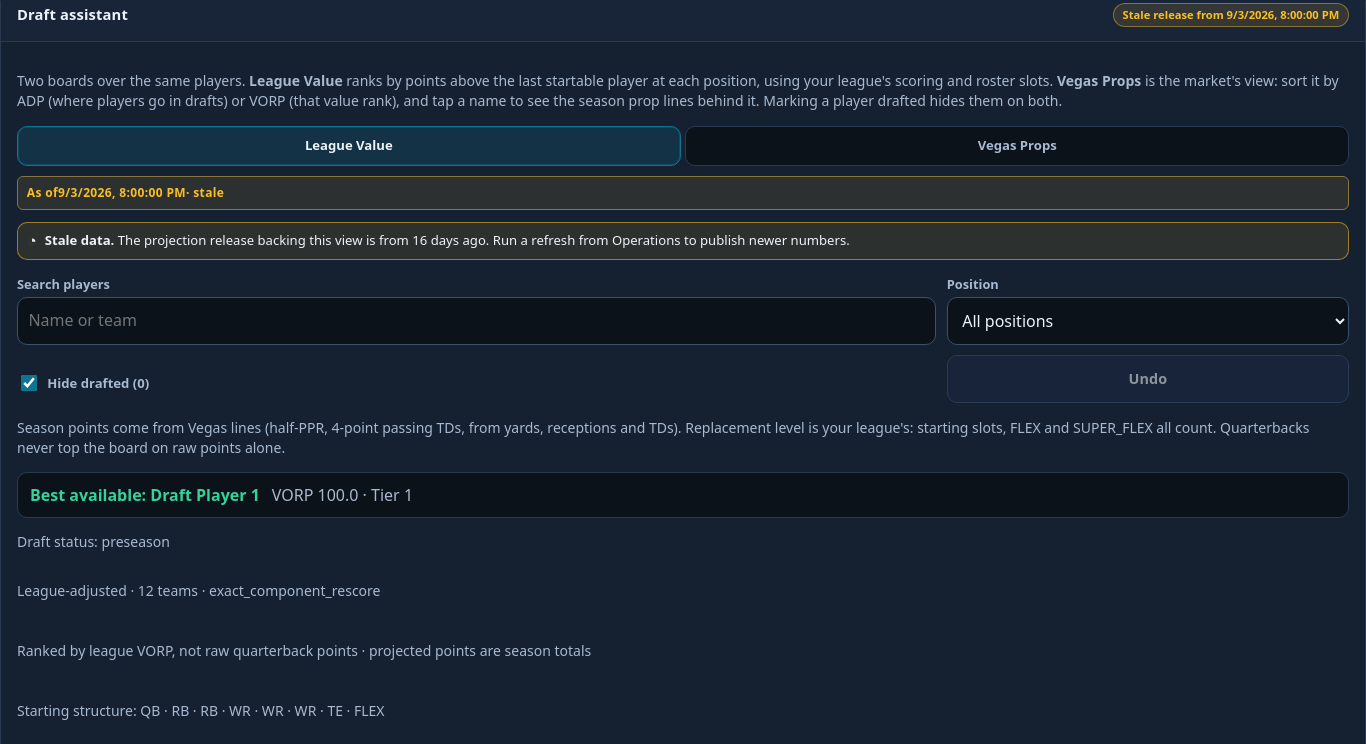
Test case: DraftScreen › defaults to league-specific VORP rankings rather than the market checklist
Check: the text "Ranked by league VORP, not raw quarterback points" is shown, box [17,641,591,660]
Click the tab "Vegas Props". click: [1017, 146]
box: [685,126,1349,166]
(page scrolled)
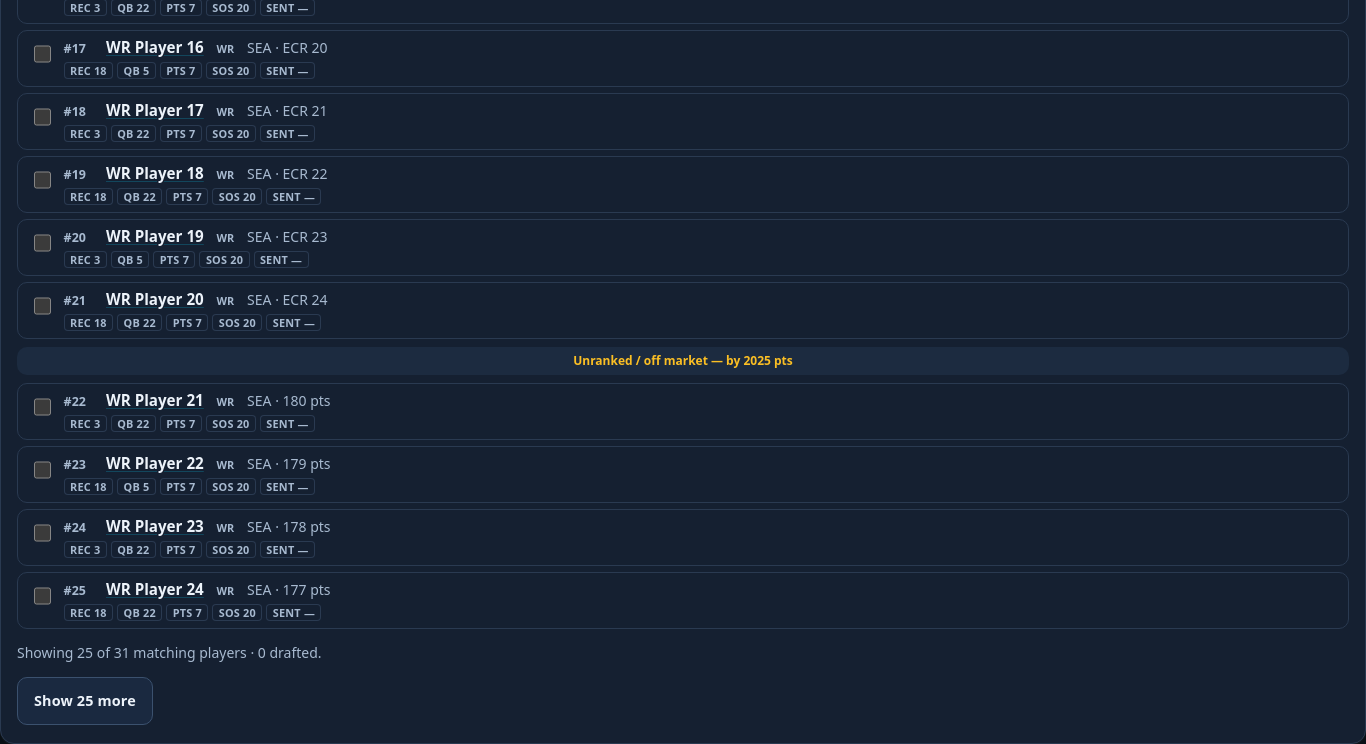
Check: the text "Unranked / off market — by 2025 pts" is shown, box [17,347,1349,375]
